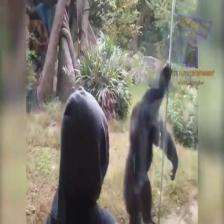monkey: (146, 104, 164, 148)
